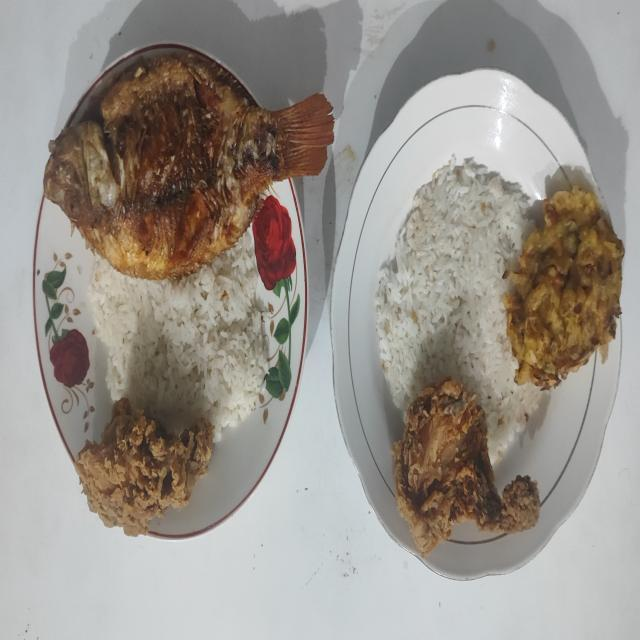ikan_mujair: (44, 56, 334, 280)
nasi_putih: (374, 157, 542, 462), (88, 231, 270, 441)
